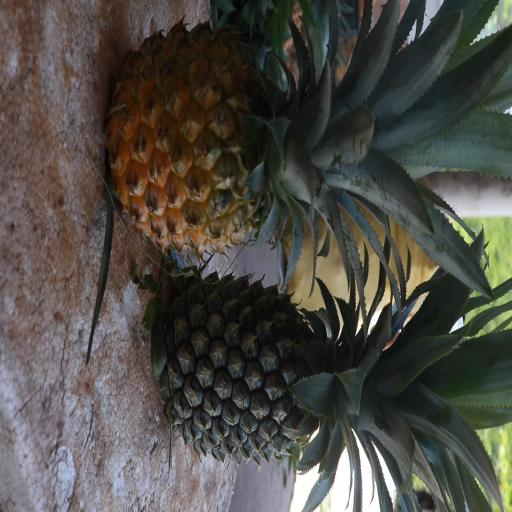Pineapple - v8 v1: (108, 28, 482, 248)
